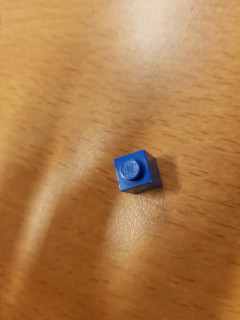1x1 blue: (110, 146, 165, 198)
